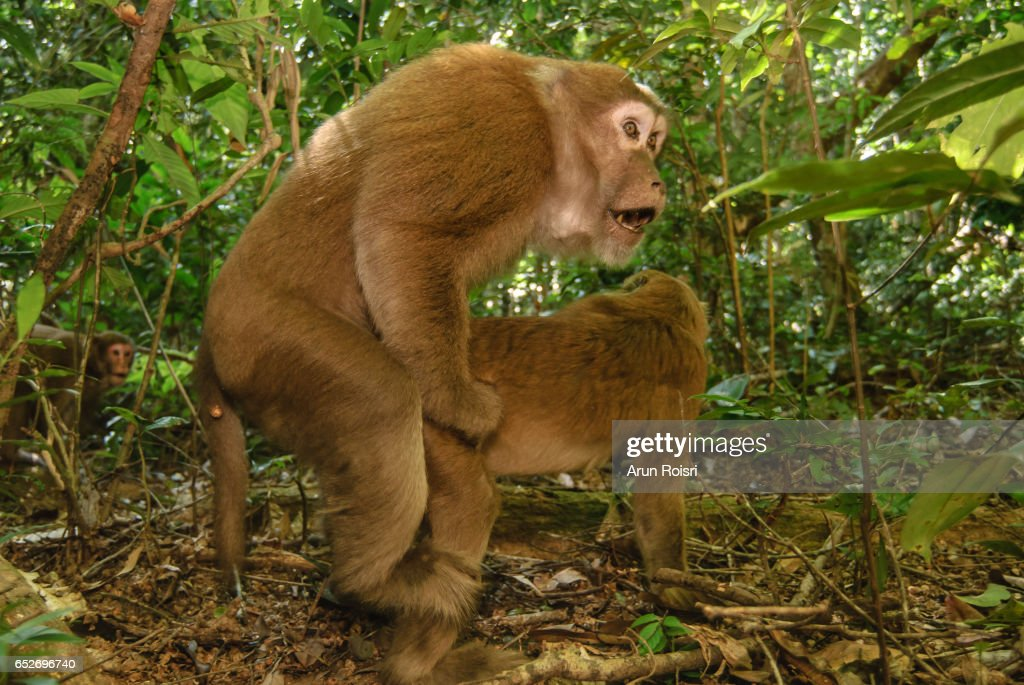monkey: (175, 36, 644, 621), (318, 261, 727, 685), (8, 309, 149, 445)
